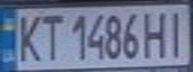1: (66, 10, 87, 61)
4: (84, 10, 109, 61)
6: (121, 9, 145, 60)
8: (103, 10, 127, 61)
H: (139, 8, 172, 60)
I: (163, 7, 193, 58)
K: (12, 10, 45, 63)
T: (36, 10, 66, 62)
